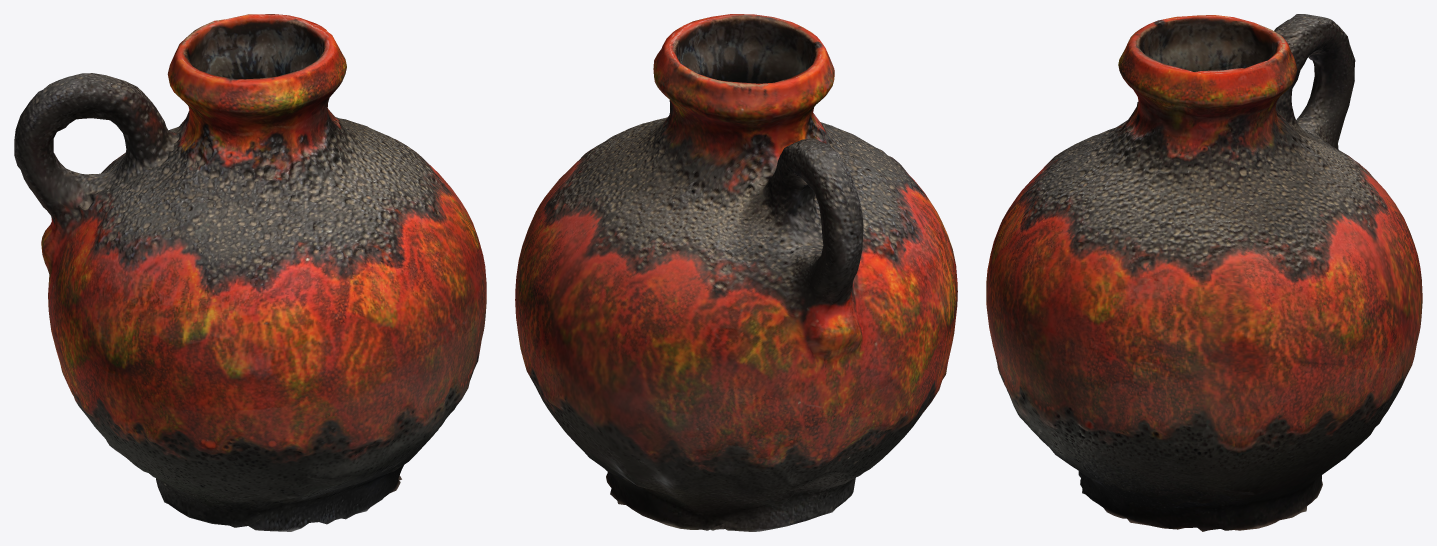
The model's file is LavaVase.obj.
3 renders of one model, left to right at view 1: azimuth 30°, elevation 25°; view 2: azimuth 150°, elevation 25°; view 3: azimuth 270°, elevation 25°, orthographic.
Parts seen in each view (by area): view 1: 3DModel_LowPoly; view 2: 3DModel_LowPoly; view 3: 3DModel_LowPoly.
Part boxes in pixels (x1=…): 3DModel_LowPoly: x1=14, y1=14, x2=486, y2=531; 3DModel_LowPoly: x1=515, y1=14, x2=957, y2=531; 3DModel_LowPoly: x1=986, y1=14, x2=1422, y2=531.
Bounding box in the file's own units: 6.28 × 6.94 × 6.3.
Materials: 1 (1 with a texture image).
